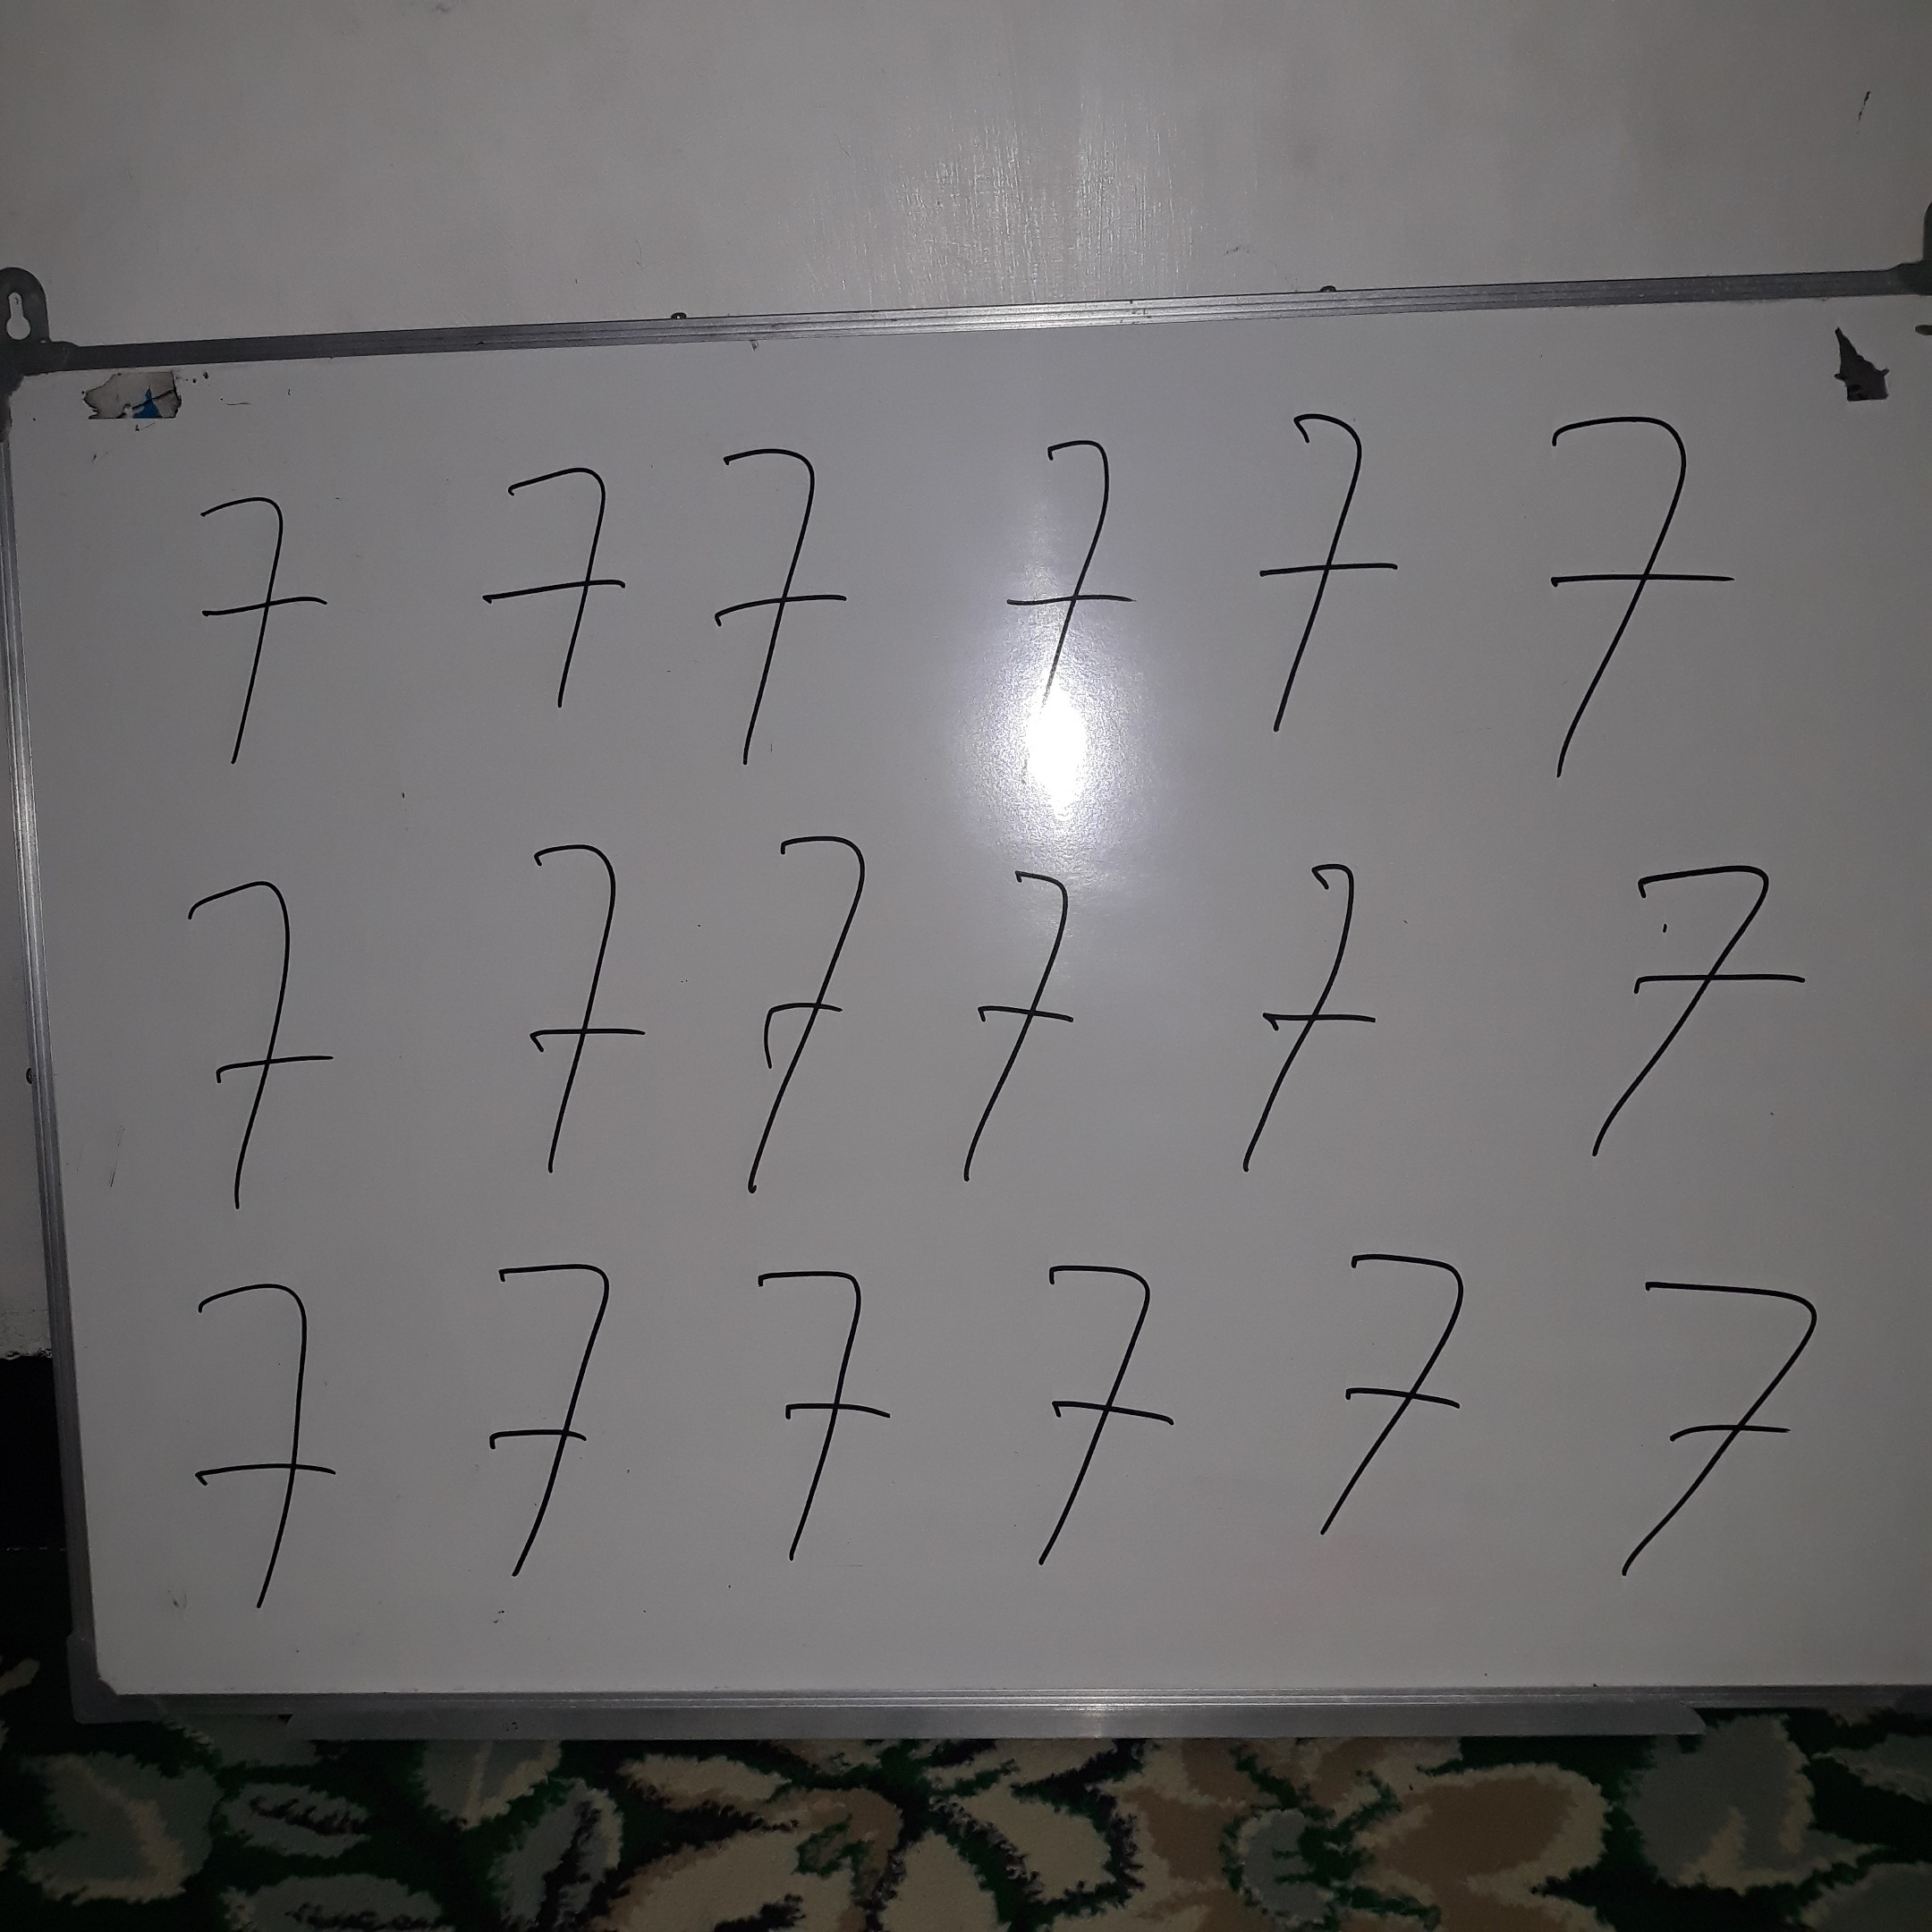num7: (1513, 405, 1756, 802), (1592, 1246, 1838, 1596), (1567, 845, 1823, 1177), (153, 860, 356, 1234), (712, 826, 908, 1210), (970, 439, 1165, 804), (174, 1272, 366, 1628), (1232, 402, 1422, 754), (1293, 1229, 1491, 1553), (1217, 845, 1402, 1190), (1014, 1250, 1199, 1587), (466, 1251, 641, 1594), (727, 1255, 910, 1583), (504, 825, 660, 1193), (165, 479, 347, 789), (457, 459, 655, 733), (949, 847, 1102, 1199), (708, 436, 861, 785)
